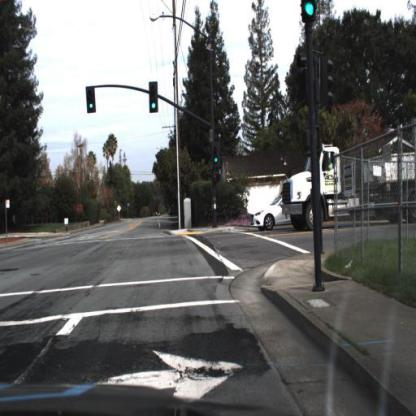car: (249, 193, 297, 231), (252, 194, 292, 232)
trafficLight-Green: (148, 81, 161, 118), (85, 83, 98, 117), (86, 82, 97, 118), (213, 146, 221, 169)
truck: (283, 143, 416, 235)
